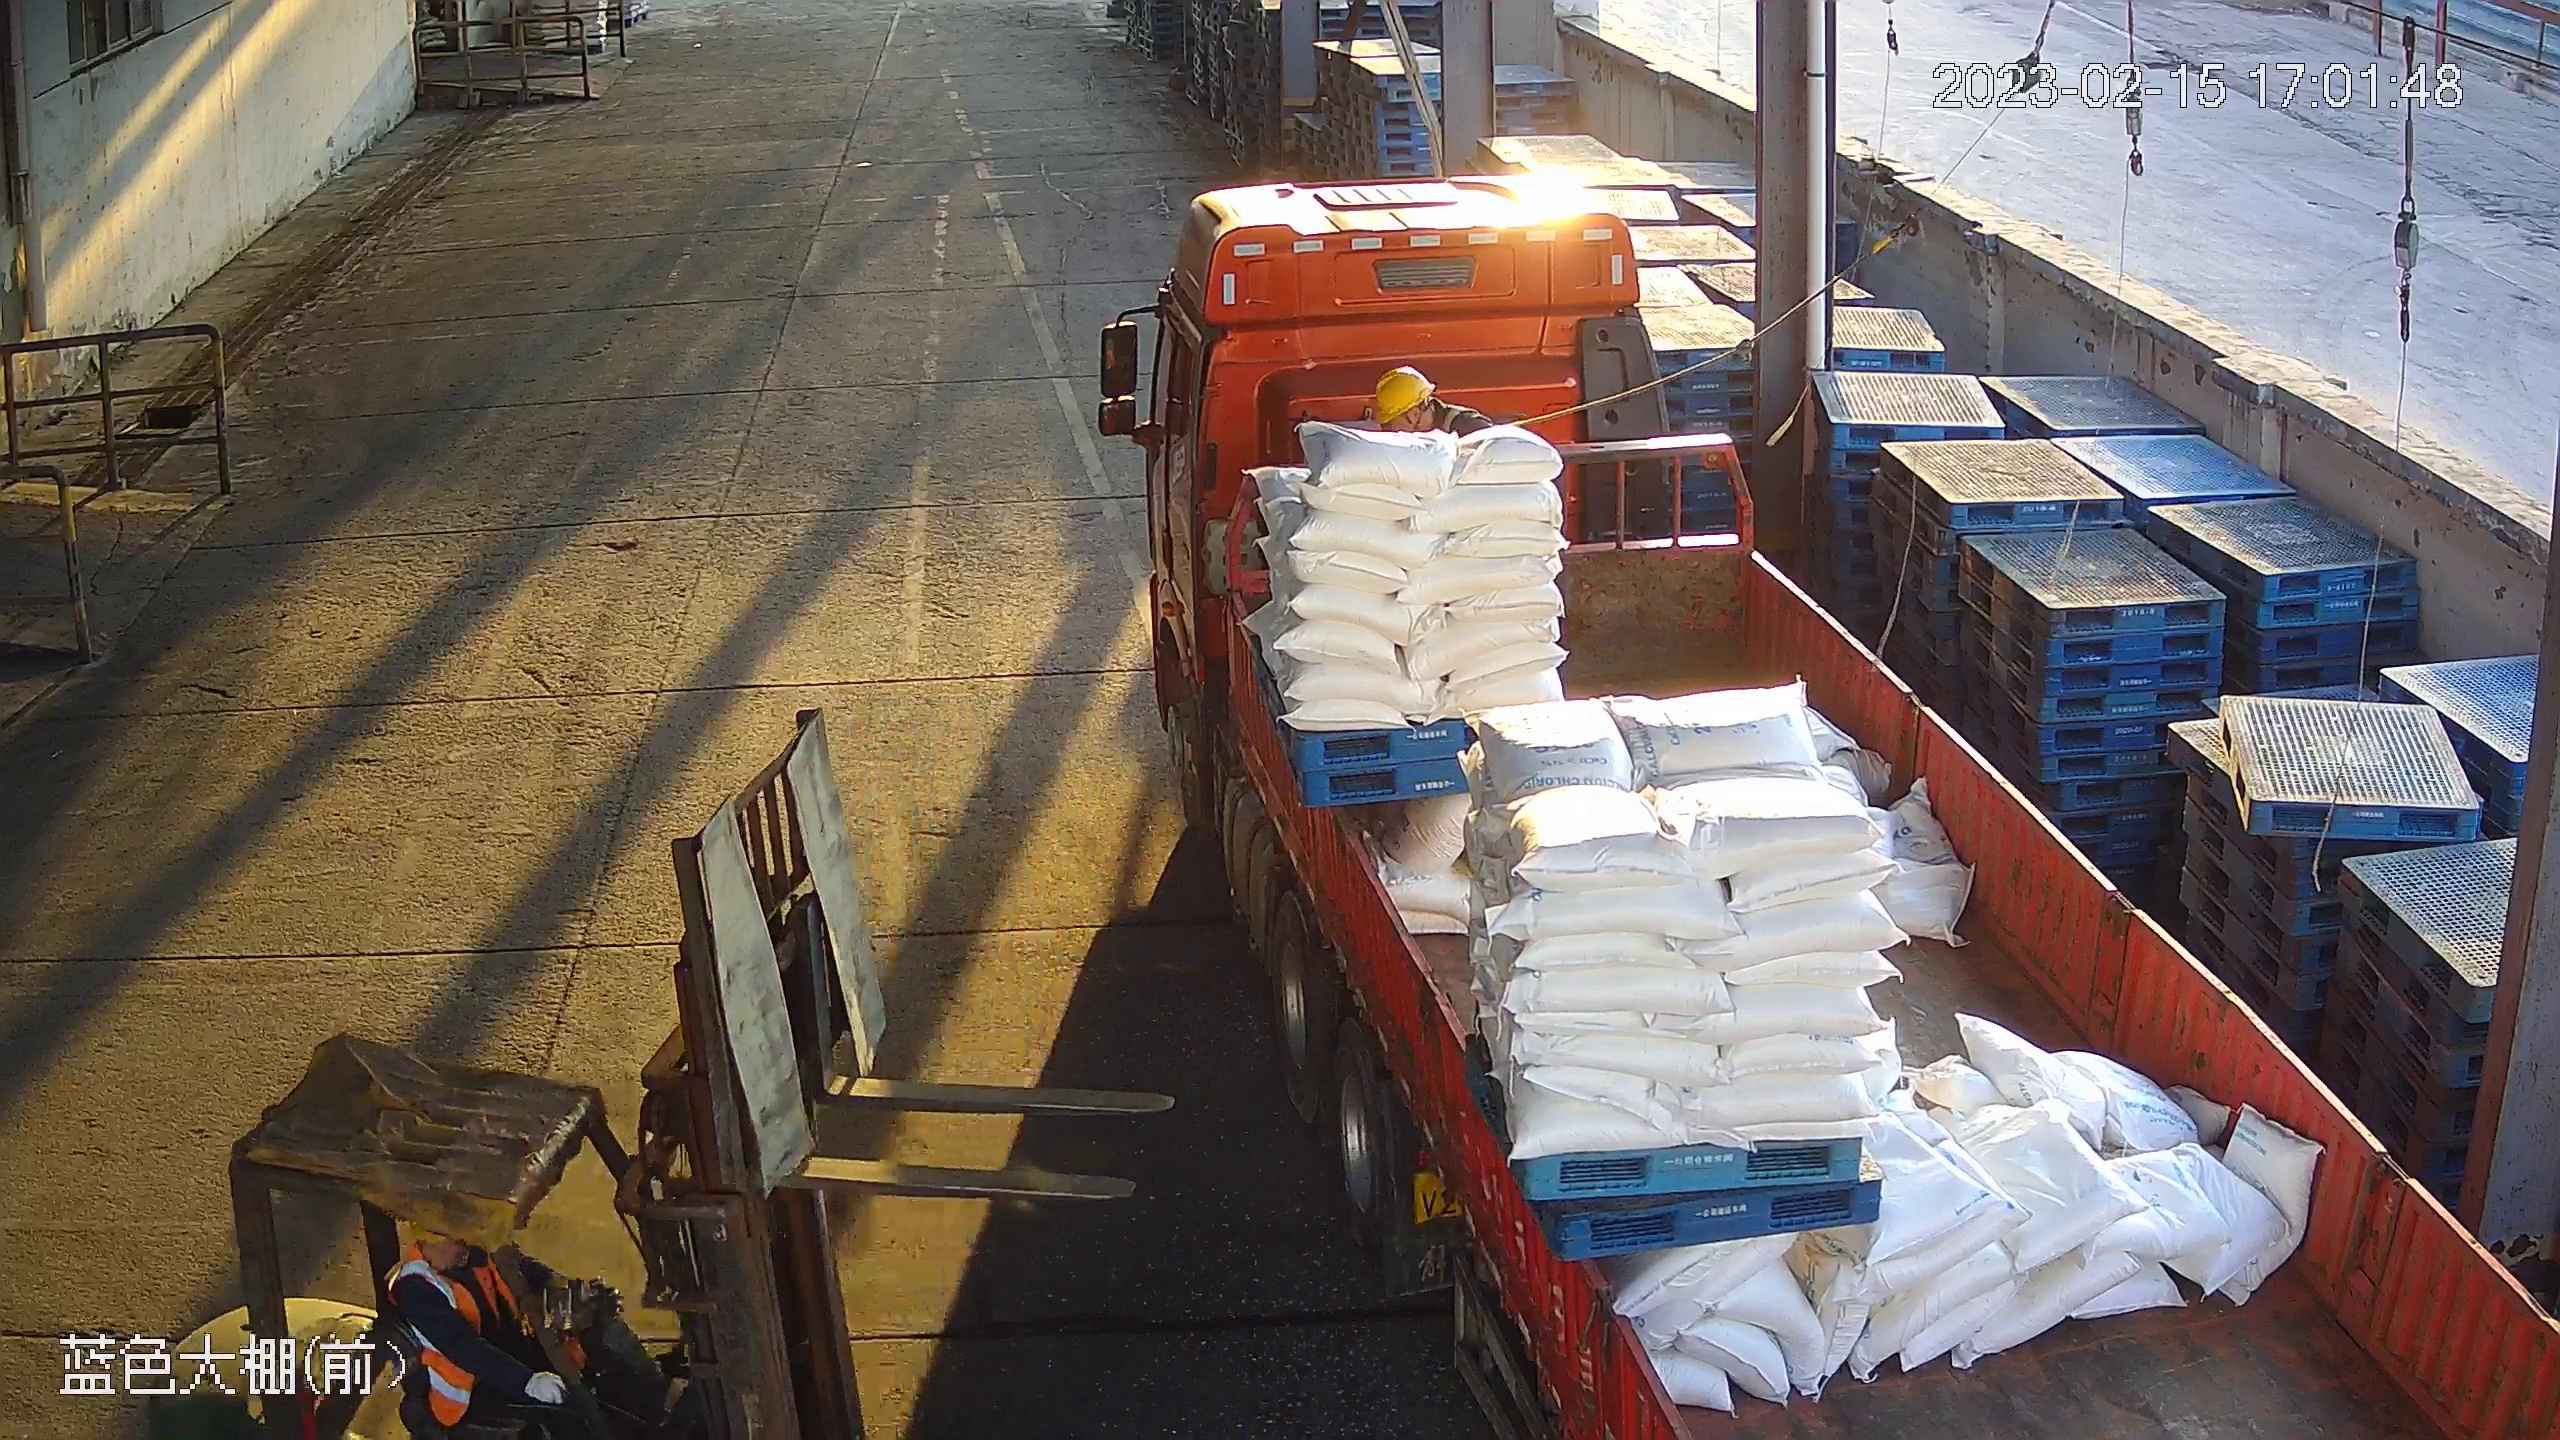head: (383, 1217, 505, 1327)
helmet: (1377, 360, 1433, 423)
people: (377, 1223, 579, 1440)
truck: (1098, 162, 2560, 1440)
